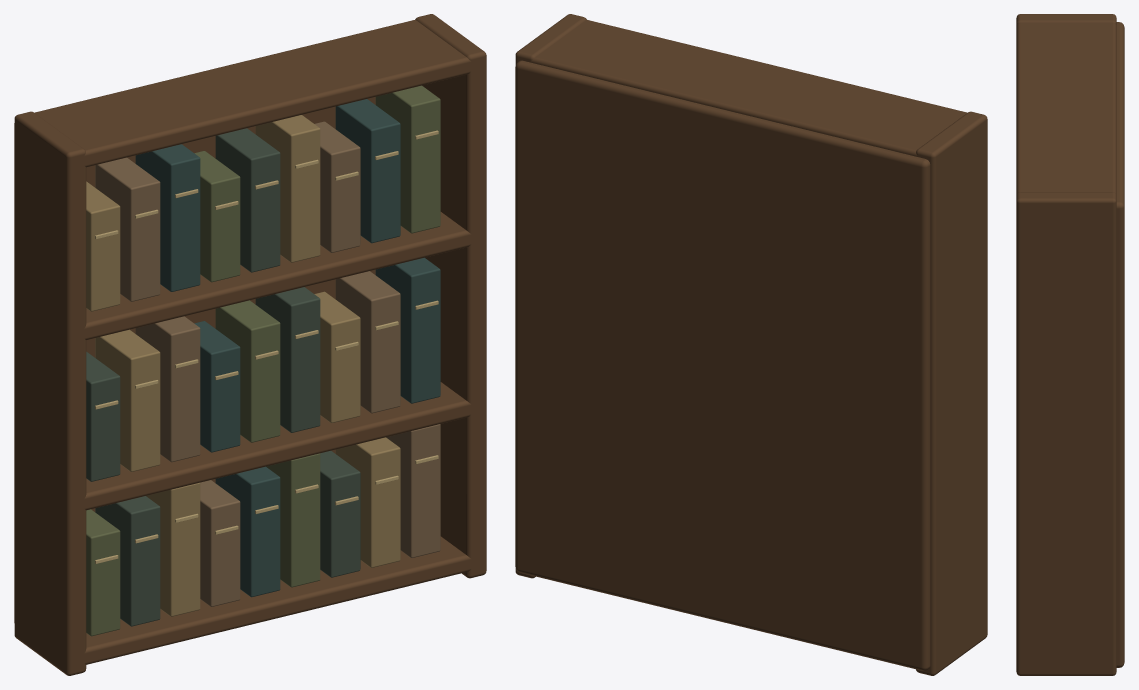
The model's file is shelf.glb.
The picture shows the model from 3 angles, left to right: view 1: azimuth 30°, elevation 25°; view 2: azimuth 150°, elevation 25°; view 3: azimuth 270°, elevation 25°; orthographic projection. The views are drawn at different scales.
Parts seen in each view (by area): view 1: shelf; view 2: shelf; view 3: shelf.
Part boxes in pixels (x1,y1,x2,y2): shelf: [14, 14, 486, 675]; shelf: [515, 14, 987, 675]; shelf: [1016, 14, 1124, 675].
Size of the model in its own units: 1.68 by 2 by 0.41.
